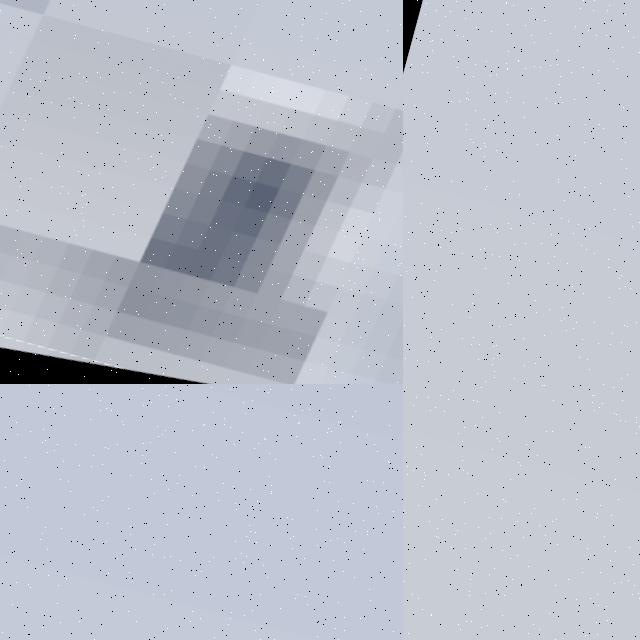drone: (0, 0, 403, 384)
